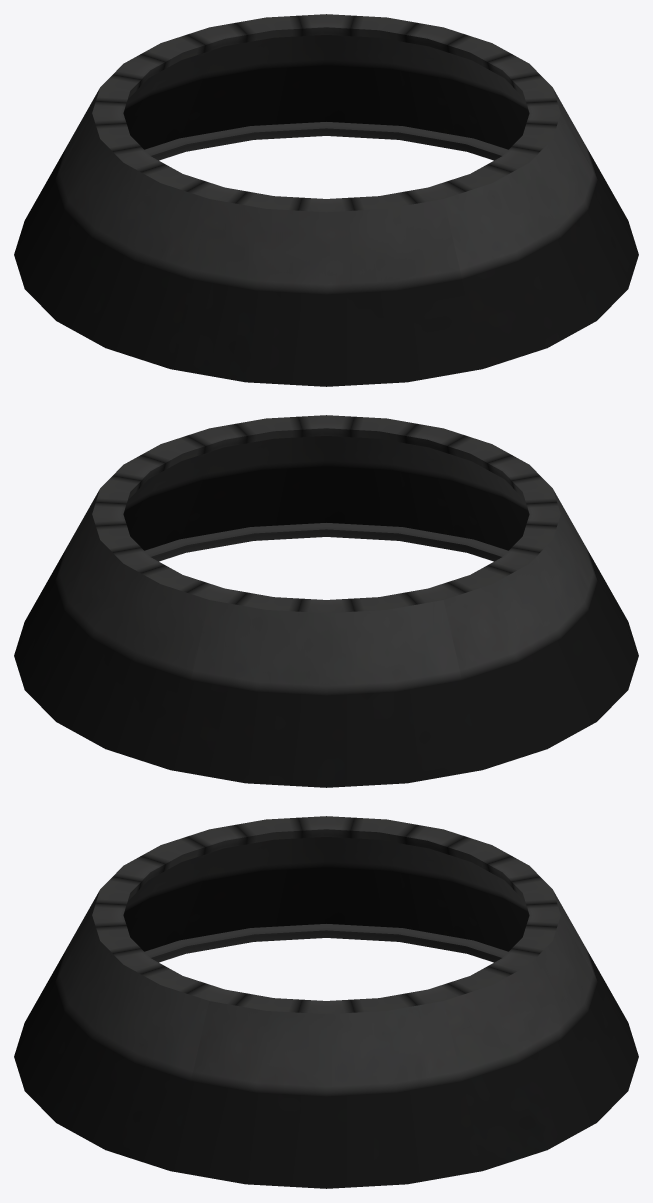
The model's file is aeroshell_short.obj.
3 views of the same model, one above another, from view 1: azimuth 30°, elevation 25°; view 2: azimuth 150°, elevation 25°; view 3: azimuth 270°, elevation 25° (orthographic).
Visible parts, largest first — view 1: 1; view 2: 1; view 3: 1.
Part boxes in pixels (x1,y1,x2,y2): 1: [14, 14, 638, 386]; 1: [14, 415, 638, 787]; 1: [14, 816, 638, 1188].
Size of the model in its own units: 2.5 by 0.625 by 2.5.
